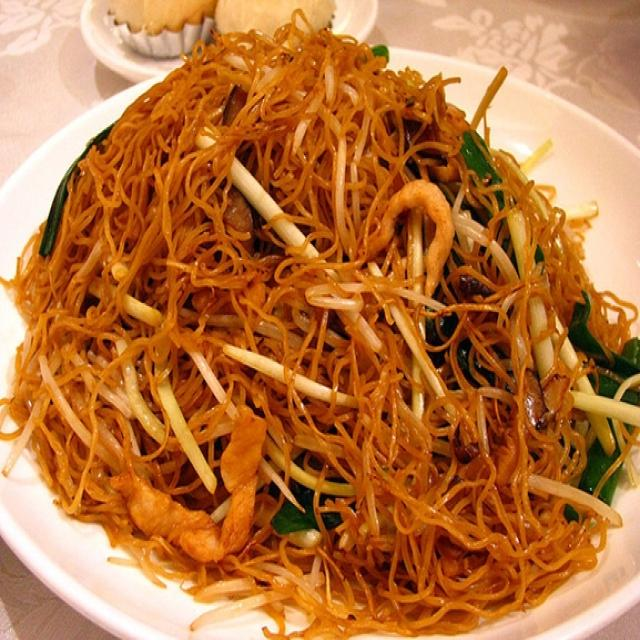面条主食: (13, 24, 628, 624)
